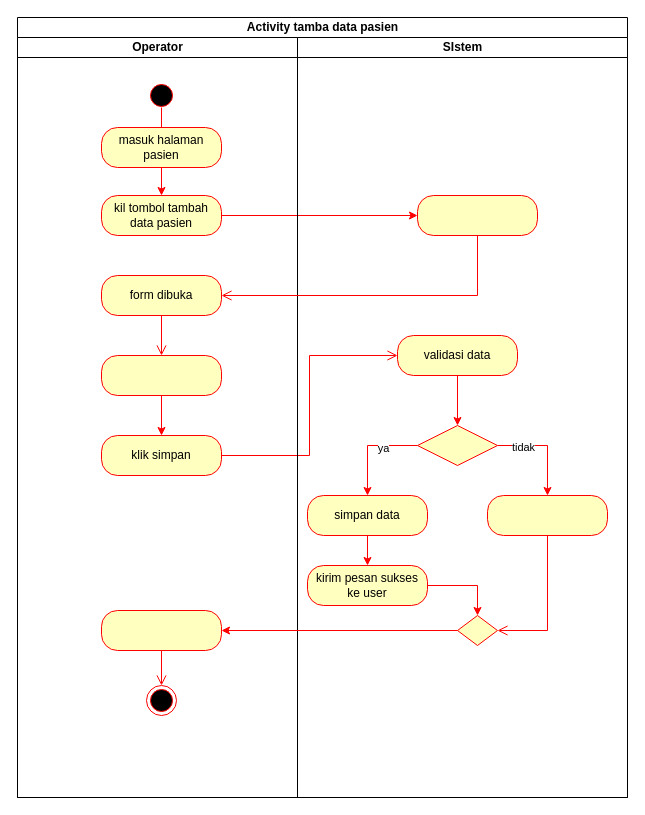
Some shapes in this 645 by 815 pixel diagram are drawn without their labels. The shapes that lost their labels are listed below. From the top down, each one's centre as x and y in pixels, then its label:
At pixel 477 215: "kirim form tambah data".
At pixel 161 375: "isi form".
At pixel 457 445: "valid".
At pixel 547 515: "kirim pesan eror ke user".
At pixel 161 630: "tampilkan notifikasi".
